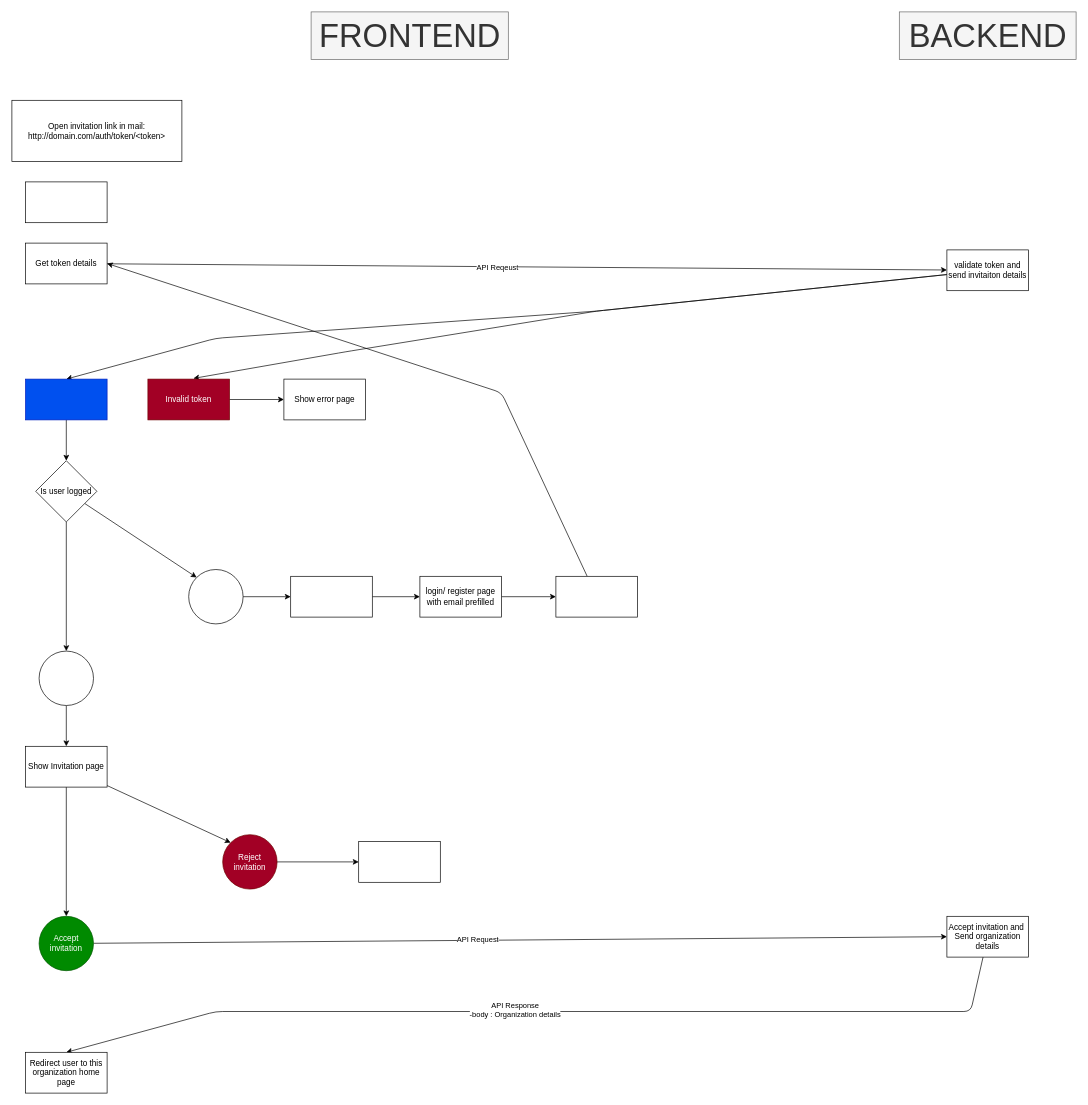
Image size: 1088x1105. Some labels were removed from this diagram. The centre of each missing label's shape, as x and y in pixels:
After user logged in redirect to nextUrl state: point 596,596
No: point 215,596
React App load: point 66,202
Redirect user to homepage: point 399,861
Save invitation link in nextUrl state: point 331,596
valid token: point 66,399
YES: point 66,678
